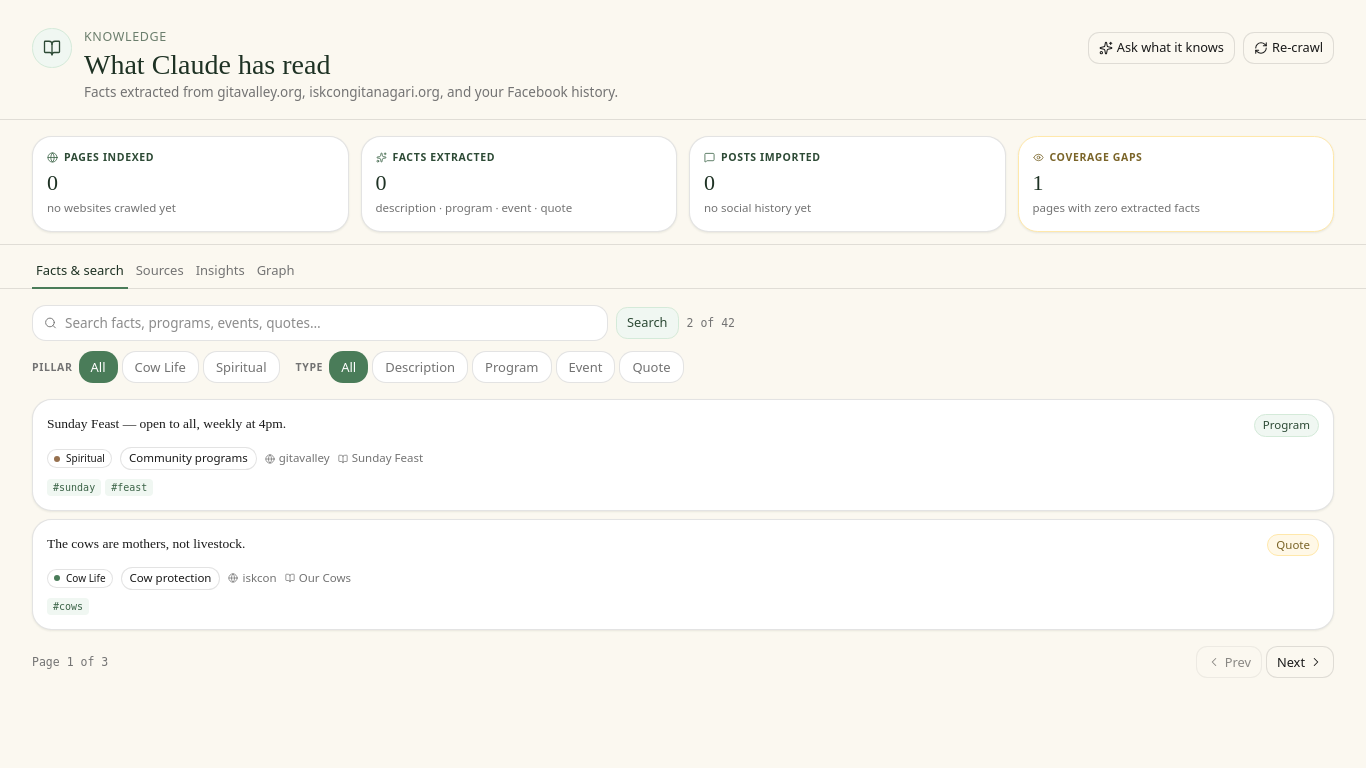
KnowledgePage › shows an honest error state on the Sources tab when the status fetch fails
Click the tab "Sources". click: coordinates (160, 271)
box: x1=132 y1=253 x2=188 y2=289
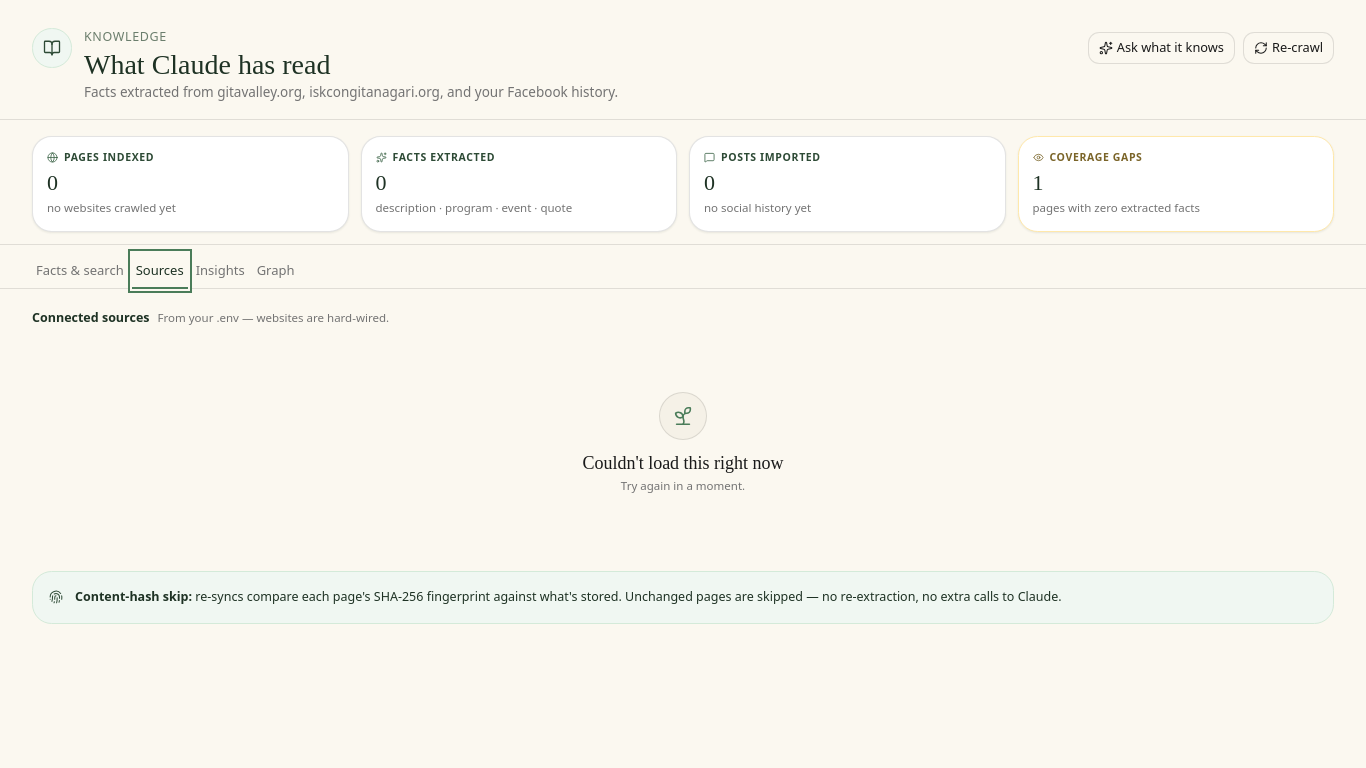
Check: the text "Couldn't load this right now" is shown, box x1=582 y1=452 x2=784 y2=474
